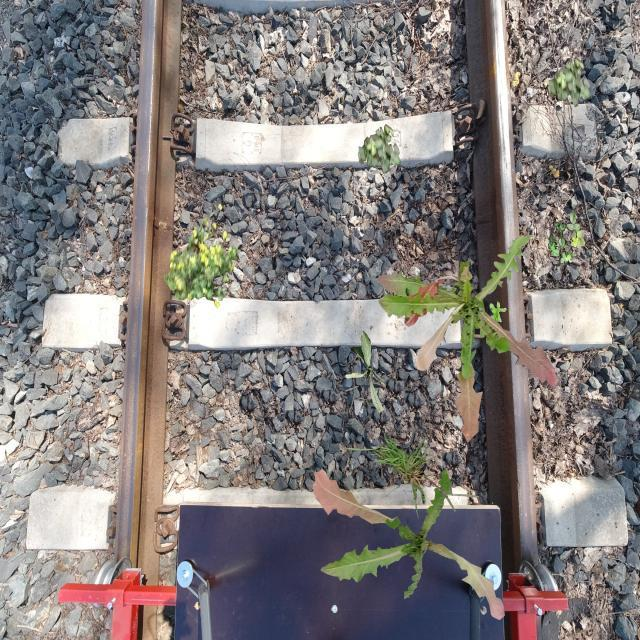Plant: (377, 235, 557, 443), (312, 469, 504, 621), (336, 431, 479, 521), (164, 204, 239, 309), (345, 331, 385, 414), (548, 57, 592, 107), (358, 124, 402, 174), (548, 211, 586, 266), (489, 302, 506, 326)
